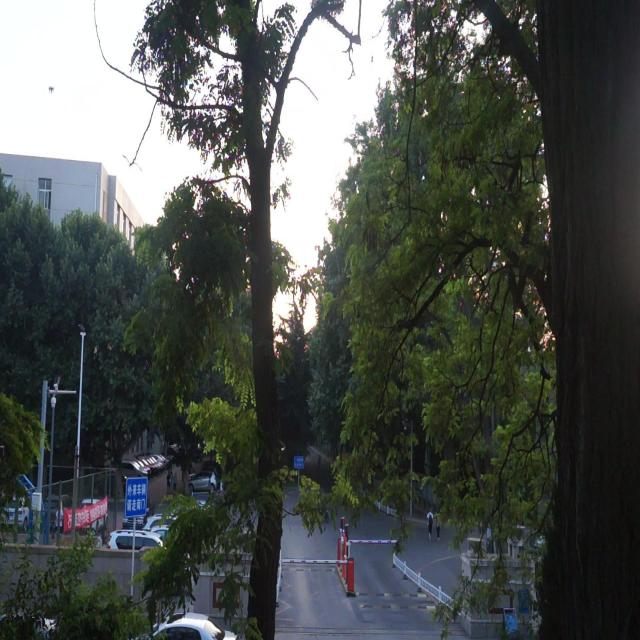drone: (46, 78, 56, 98)
